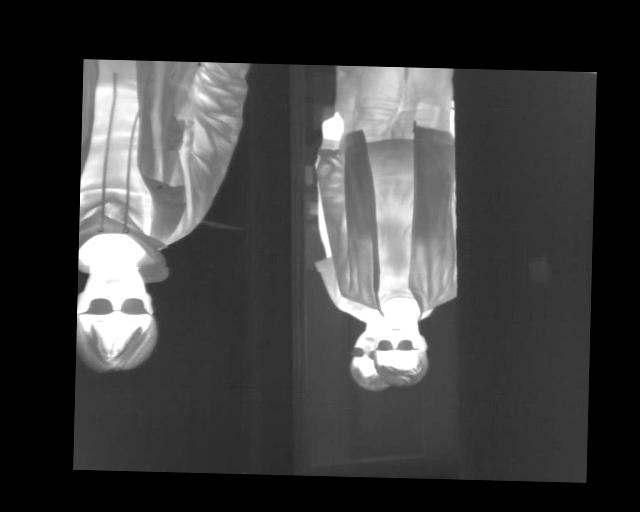face: (76, 254, 158, 376), (373, 312, 427, 387), (348, 327, 387, 391)
